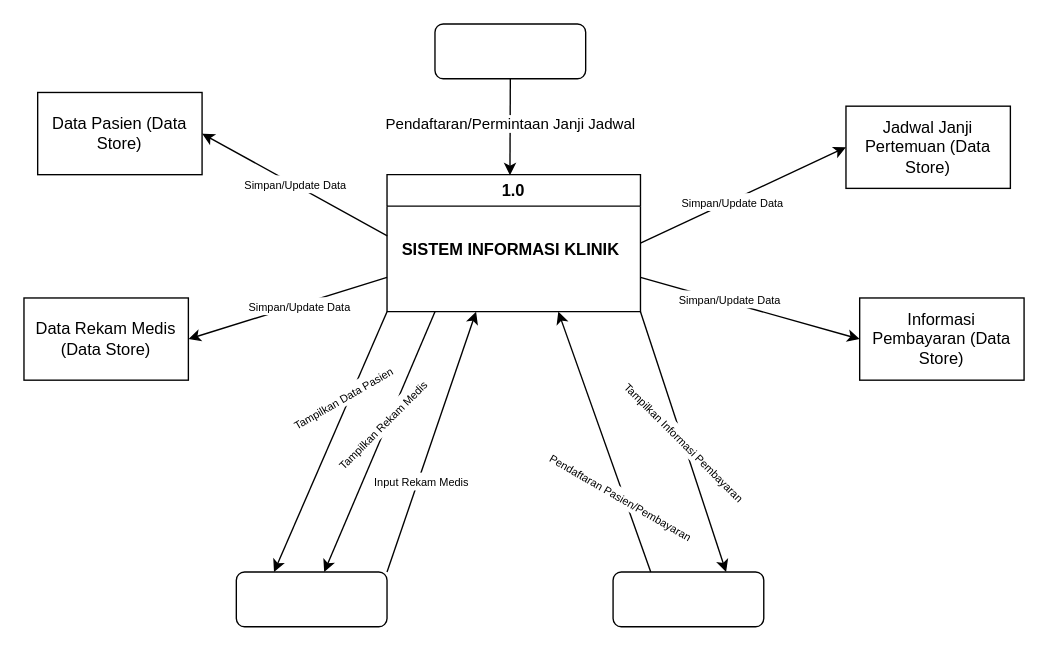
The diagram is 1048 pixels wide and 651 high, and some of its shapes have lost their labels. Here are the shapes that lost their labels. From the top down, the box of each, then its label:
(434, 23, 586, 79): PASIEN
(235, 571, 387, 627): PETUGAS MEDIS
(612, 571, 764, 627): ADMIN/STAFF
